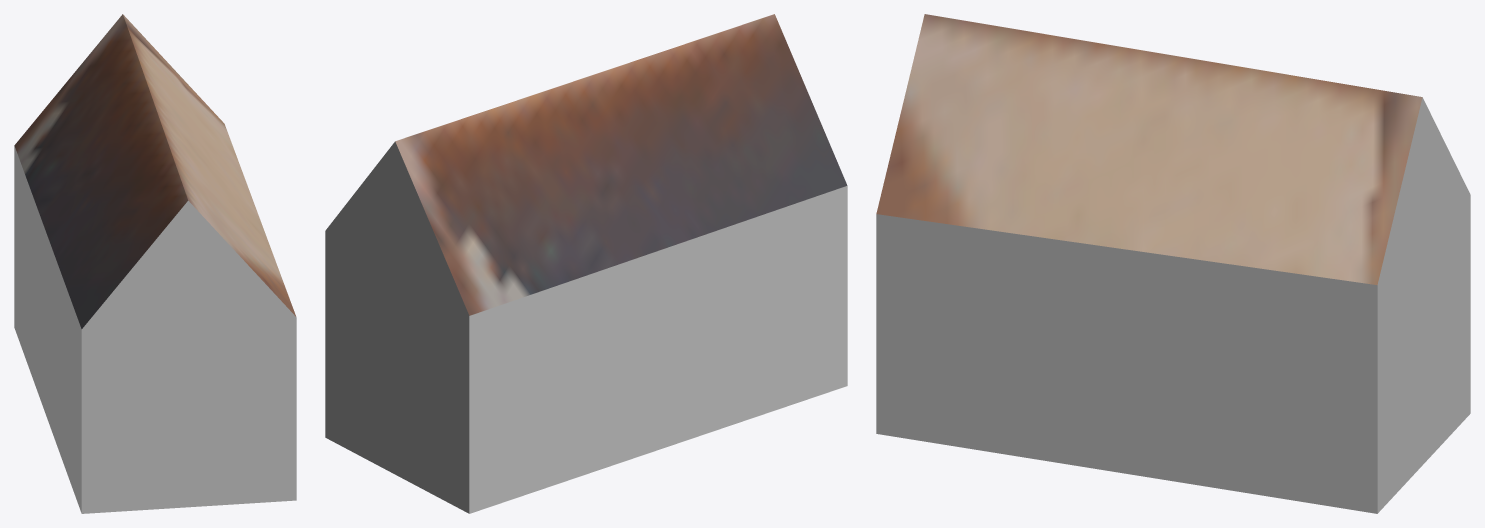
Rendered from DEBW_0010007THZ2.gltf.
3 views of the same model, side by side, from view 1: azimuth 30°, elevation 25°; view 2: azimuth 150°, elevation 25°; view 3: azimuth 270°, elevation 25° (orthographic). The views are drawn at different scales.
Parts seen in each view (by area): view 1: Z_UP; view 2: Z_UP; view 3: Z_UP.
Boxes of the visible parts, x1,y1,x2,y2 form: Z_UP: [14, 14, 296, 513]; Z_UP: [325, 14, 847, 513]; Z_UP: [876, 14, 1470, 513].
Size of the model in its own units: 7.93 by 7.46 by 10.91.
2 materials, 1 textured.
